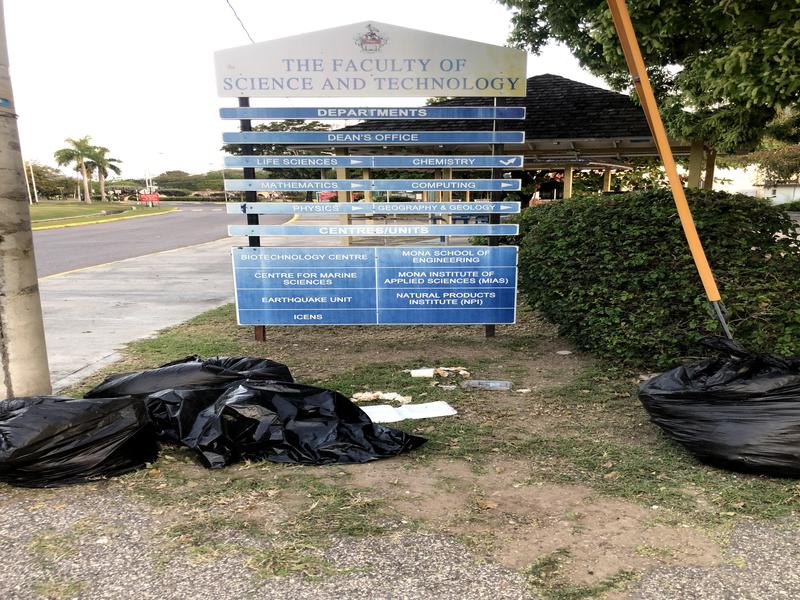18.0055634_-76.7484079_scitechsign: (194, 19, 531, 357)
